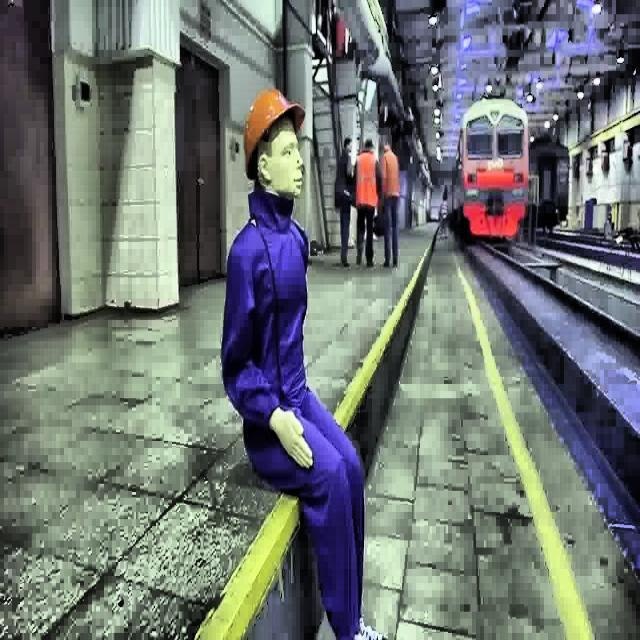safety_helmet: (245, 85, 307, 177)
safety_jacket: (354, 152, 379, 212)
